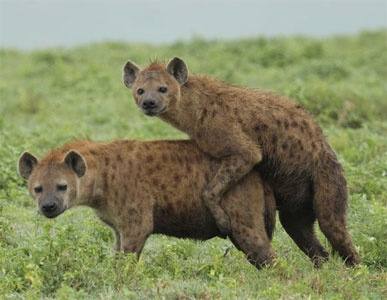hyna: (119, 52, 371, 274), (16, 132, 297, 292)
